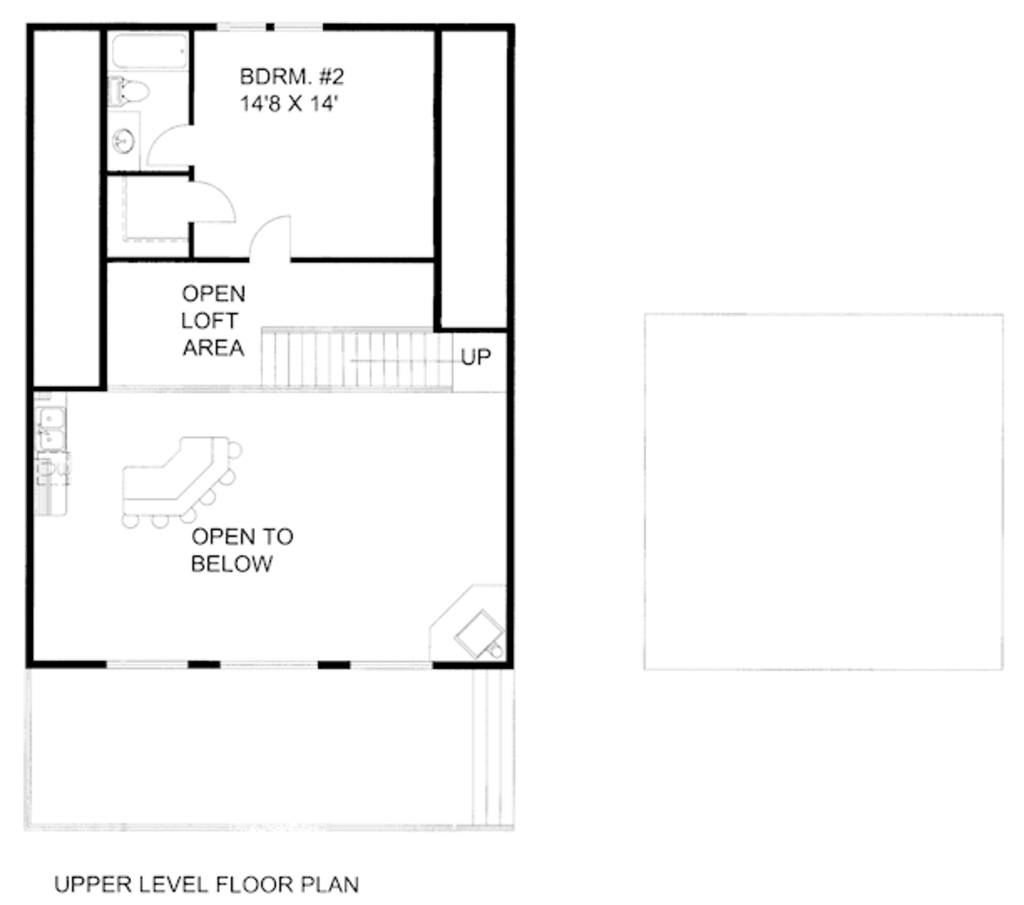door: (146, 122, 215, 167), (246, 205, 292, 264), (184, 176, 236, 226)
kitchen_bar: (99, 402, 261, 540)
large_sink: (93, 66, 161, 115)
small_sink: (99, 114, 140, 170)
stairs: (255, 318, 519, 412)
tub: (105, 29, 196, 71)
twin_sink: (20, 411, 81, 466)
window: (202, 15, 322, 36), (348, 657, 434, 676), (220, 657, 319, 671), (106, 656, 196, 670)
